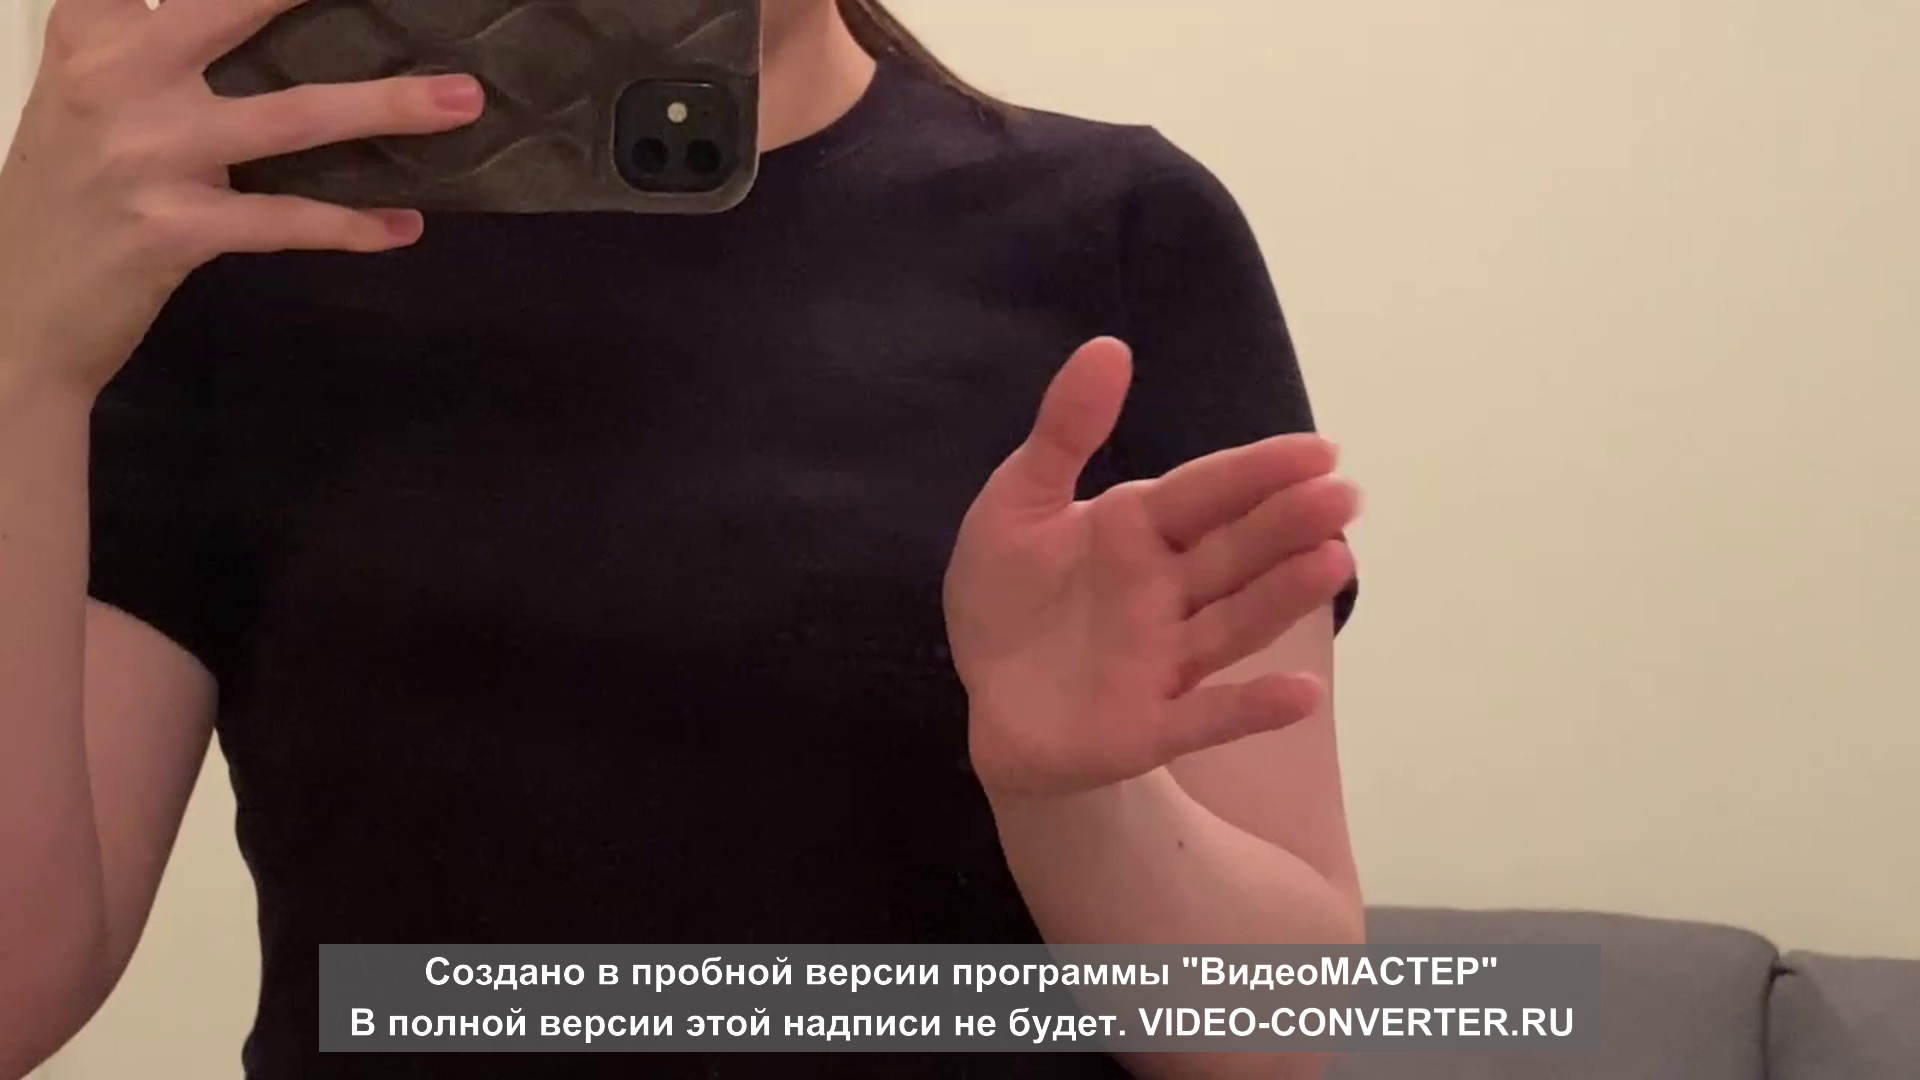Ладонь: (942, 331, 1357, 794)
